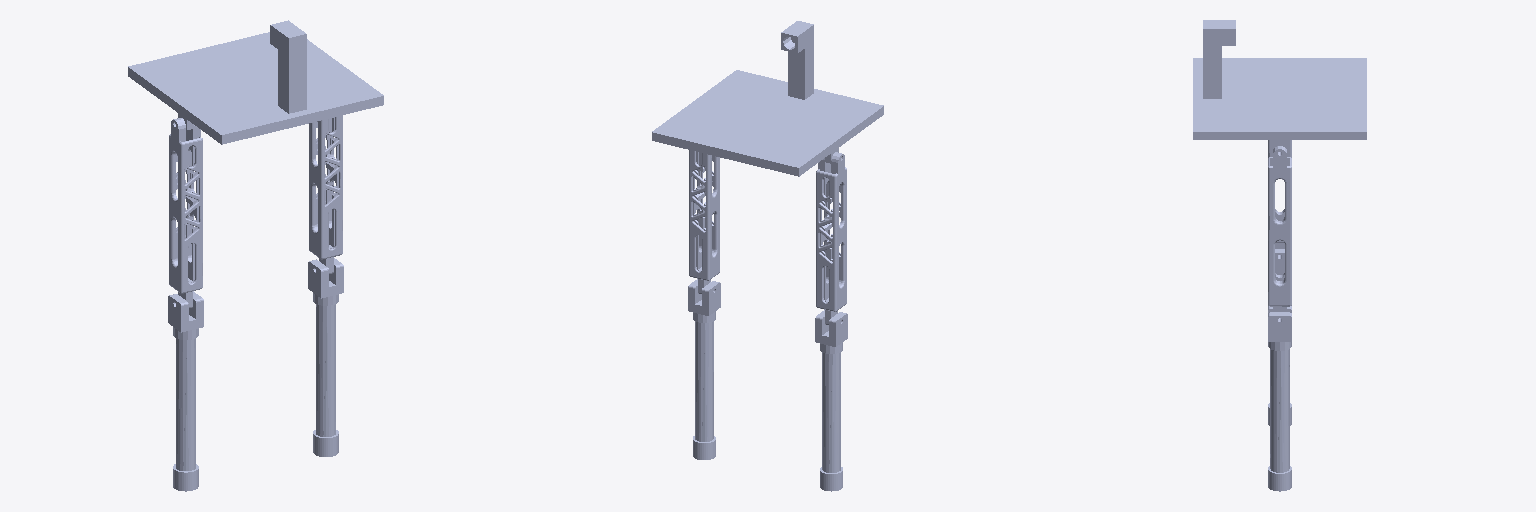
robot.urdf — bipedalwalkingrobot:
<?xml version="1.0"?>
<robot name="bipedalwalkingrobot">
  <link
    name="waist">
    <inertial>
      <origin
        xyz="-1.286E-17 -0.0066341 0.024451"
        rpy="0 0 0" />
      <mass
        value="0.36416" />
      <inertia
        ixx="0.00112359552578825"
        ixy="1.205946380074E-19"
        ixz="1.11224090733735E-20"
        iyy="0.00100247284891324"
        iyz="0.000103236065171984"
        izz="0.0019309628828681" />
    </inertial>
    <visual>
      <origin
        xyz="0 0 0"
        rpy="1.5707963267949 0 0" />
      <geometry>
        <mesh
          filename="package://walker_gazebo/meshes/waist_L.STL" />
      </geometry>
      <material
        name="black">
        <color
          rgba="0.79216 0.81961 0.93333 1" />
      </material>
    </visual>
    <collision>
      <origin
        xyz="0 0 0"
        rpy="1.5707963267949 0 0" />
      <geometry>
        <mesh
          filename="package://walker_gazebo/meshes/waist_L.STL" />
      </geometry>
    </collision>
  </link>

  <joint name="waist_thighR" type="revolute">
    <origin xyz="-0.0775 0 0" rpy="0 0 0"></origin>
    <parent link="waist"></parent>
    <child link="thighR"></child>
    <axis xyz="1 0 0"></axis>
    <limit effort="30" lower="-0.8" upper="0.8" velocity="7.0"></limit>
  </joint>

  <link
    name="thighR">
    <inertial>
      <origin
        xyz="7.1075E-05 -1.52550000586923E-09 -0.095855"
        rpy="0 0 0" />
      <mass
        value="0.045155" />
      <inertia
        ixx="0.000160298997286007"
        ixy="2.81502223076189E-13"
        ixz="8.01930451478266E-08"
        iyy="0.000161034455414454"
        iyz="-1.2037190736104E-13"
        izz="5.91731247278774E-06" />
    </inertial>
    <visual>
      <origin
        xyz="0 0 0"
        rpy="1.5707963267949 0 0" />
      <geometry>
        <mesh
          filename="package://walker_gazebo/meshes/thigh.STL" />
      </geometry>
      <material
        name="">
        <color
          rgba="0.79216 0.81961 0.93333 1" />
      </material>
    </visual>
    <collision>
      <origin
        xyz="0 0 0"
        rpy="1.5707963267949 0 0" />
      <geometry>
        <mesh
          filename="package://walker_gazebo/meshes/thigh.STL" />
      </geometry>
    </collision>
  </link>

  <joint name="waist_thighL" type="revolute">
    <origin xyz="0.0775 0 0" rpy="0 0 0"></origin>
    <parent link="waist"></parent>
    <child link="thighL"></child>
    <axis xyz="1 0 0"></axis>
    <limit effort="30" lower="-0.8" upper="0.8" velocity="7.0"></limit>
  </joint>
  
  <link
    name="thighL">
    <inertial>
      <origin
        xyz="7.1075E-05 -1.52550000586923E-09 -0.095855"
        rpy="0 0 0" />
      <mass
        value="0.045155" />
      <inertia
        ixx="0.000160298997286007"
        ixy="2.81502223076189E-13"
        ixz="8.01930451478266E-08"
        iyy="0.000161034455414454"
        iyz="-1.2037190736104E-13"
        izz="5.91731247278774E-06" />
    </inertial>
    <visual>
      <origin
        xyz="0 0 0"
        rpy="1.5707963267949 0 0" />
      <geometry>
        <mesh
          filename="package://walker_gazebo/meshes/thigh.STL" />
      </geometry>
      <material
        name="">
        <color
          rgba="0.79216 0.81961 0.93333 1" />
      </material>
    </visual>
    <collision>
      <origin
        xyz="0 0 0"
        rpy="1.5707963267949 0 0" />
      <geometry>
        <mesh
          filename="package://walker_gazebo/meshes/31mar/thigh.STL" />
      </geometry>
    </collision>
  </link>

<link
    name="shankR">
    <inertial>
      <origin
        xyz="-2.8278E-08 -1.6559000000536E-07 -0.087546"
        rpy="0 0 0" />
      <mass
        value="0.069508" />
      <inertia
        ixx="0.000246986748692704"
        ixy="6.48379358038081E-13"
        ixz="1.71897862367626E-10"
        iyy="0.000247151812403649"
        iyz="-1.00661207044161E-09"
        izz="4.5839866041675E-06" />
    </inertial>
    <visual>
      <origin
        xyz="0 0 0"
        rpy="1.5707963267949 0 0" />
      <geometry>
        <mesh
          filename="package://walker_gazebo/meshes/shank.STL" />
      </geometry>
      <material
        name="">
        <color
          rgba="0.79216 0.81961 0.93333 1" />
      </material>
    </visual>
    <collision>
      <origin
        xyz="0 0 0"
        rpy="1.5707963267949 0 0" />
      <geometry>
        <mesh
          filename="package://walker_gazebo/meshes/shank.STL" />
      </geometry>
    </collision>
  </link>

  <joint name="thighR_shankR" type="revolute">
    <origin xyz="0 0 -0.190" rpy="0 0 0"></origin>
    <parent link="thighR"></parent>
    <child link="shankR"></child>
    <axis xyz="1 0 0"></axis>
    <limit effort="30" lower="-0.00118981" upper="1.4" velocity="7.0"></limit>
  </joint>

  <link
    name="shankL">
    <inertial>
      <origin
        xyz="-2.8278E-08 -1.6559000000536E-07 -0.087546"
        rpy="0 0 0" />
      <mass
        value="0.069508" />
      <inertia
        ixx="0.000246986748692704"
        ixy="6.48379358038081E-13"
        ixz="1.71897862367626E-10"
        iyy="0.000247151812403649"
        iyz="-1.00661207044161E-09"
        izz="4.5839866041675E-06" />
    </inertial>
    <visual>
      <origin
        xyz="0 0 0"
        rpy="1.5707963267949 0 0" />
      <geometry>
        <mesh
          filename="package://walker_gazebo/meshes/shank.STL" />
      </geometry>
      <material
        name="">
        <color
          rgba="0.79216 0.81961 0.93333 1" />
      </material>
    </visual>
    <collision>
      <origin
        xyz="0 0 0"
        rpy="1.5707963267949 0 0" />
      <geometry>
        <mesh
          filename="package://walker_gazebo/meshes/shank.STL" />
      </geometry>
    </collision>
  </link>

  <joint name="thighL_shankL" type="revolute">
    <origin xyz="0 0 -0.190" rpy="0 0 0"></origin>
    <parent link="thighL"></parent>
    <child link="shankL"></child>
    <axis xyz="1 0 0"></axis>
    <limit effort="30" lower="-0.00118981" upper="1.4" velocity="7.0"></limit>
  </joint>

  <link
    name="footR">
    <inertial>
      <origin
        xyz="3.0195E-35 -8.55943176911189E-19 -0.01"
        rpy="0 0 0" />
      <mass
        value="0.0098175" />
      <inertia
        ixx="7.10744431720347E-07"
        ixy="-1.42924763913015E-39"
        ixz="2.37149515633406E-39"
        iyy="7.10744431720347E-07"
        iyz="3.44395813572471E-24"
        izz="7.66990393942821E-07" />
    </inertial>
    <visual>
      <origin
        xyz="0 0 0"
        rpy="1.5707963267949 0 0" />
      <geometry>
        <mesh
          filename="package://walker_gazebo/meshes/contact_sensor.STL" />
      </geometry>
      <material
        name="">
        <color
          rgba="0.79216 0.81961 0.93333 1" />
      </material>
    </visual>
    <collision>
      <origin
        xyz="0 0 0"
        rpy="1.5707963267949 0 0" />
      <geometry>
        <mesh
          filename="package://walker_gazebo/meshes/contact_sensor.STL" />
      </geometry>
    </collision>
  </link>

  <joint name="shankR_footR" type="fixed">
    <origin xyz="0 0 -0.175" rpy="0 0 0"></origin>
    <parent link="shankR"></parent>
    <child link="footR"></child>
  </joint>

  <link
    name="footL">
    <inertial>
      <origin
        xyz="3.0195E-35 -8.55943176911189E-19 -0.01"
        rpy="0 0 0" />
      <mass
        value="0.0098175" />
      <inertia
        ixx="7.10744431720347E-07"
        ixy="-1.42924763913015E-39"
        ixz="2.37149515633406E-39"
        iyy="7.10744431720347E-07"
        iyz="3.44395813572471E-24"
        izz="7.66990393942821E-07" />
    </inertial>
    <visual>
      <origin
        xyz="0 0 0"
        rpy="1.5707963267949 0 0" />
      <geometry>
        <mesh
          filename="package://walker_gazebo/meshes/contact_sensor.STL" />
      </geometry>
      <material
        name="">
        <color
          rgba="0.79216 0.81961 0.93333 1" />
      </material>
    </visual>
    <collision>
      <origin
        xyz="0 0 0"
        rpy="1.5707963267949 0 0" />
      <geometry>
        <mesh
          filename="package://walker_gazebo/meshes/contact_sensor.STL" />
      </geometry>
    </collision>
  </link>

  <joint name="shankL_footL" type="fixed">
    <origin xyz="0 0 -0.175" rpy="0 0 0"></origin>
    <parent link="shankL"></parent>
    <child link="footL"></child>
  </joint>

<link name="world"/>

 <joint name="grounding" type="fixed">
    <origin xyz="0 0 0" rpy="0 0 0"></origin>
    <parent link="world"/>
    <child link="outer_ring"/>
  </joint>

  <link
    name="outer_ring">
    <inertial>
      <origin
        xyz="0 2.41110241903461E-18 0.165"
        rpy="0 0 0" />
      <mass
        value="0.49244" />
      <inertia
        ixx="0.00502601319324487"
        ixy="-1.62358744911733E-35"
        ixz="7.47908862031761E-35"
        iyy="0.00502601319324487"
        iyz="-2.39524257656496E-19"
        izz="0.00111415601711858" />
    </inertial>
    <collision>
      <origin
        xyz="0 0 0"
        rpy="1.5707963267949 0 0" />
      <geometry>
        <mesh
          filename="package://walker_gazebo/meshes/outter_ring.STL" />
      </geometry>
    </collision>
  </link>

  <joint name="outer_ring_inner_ring" type="prismatic">
    <origin xyz="0 0 0.330" rpy="0 0 0"></origin>
    <parent link="outer_ring"></parent>
    <child link="inner_ring"></child>
    <axis xyz="0 -1 0"></axis>
    <limit effort="30" lower="0.0" upper="10.0" velocity="7.0"></limit>
    <dynamics damping="0.0" friction="0.0"/>
  </joint>

  <link
    name="inner_ring">
    <inertial>
      <origin
        xyz="1.9888E-21 2.902765522478E-18 0.032744"
        rpy="0 0 0" />
      <mass
        value="0.41592" />
      <inertia
        ixx="0.000359315600962194"
        ixy="-5.5118705611265E-24"
        ixz="3.13347162793032E-23"
        iyy="0.000359274048641079"
        iyz="8.28368014073459E-21"
        izz="0.000418748218163316" />
    </inertial>
    <collision>
      <origin
        xyz="0 0 0"
        rpy="1.5707963267949 0 0" />
      <geometry>
        <mesh
          filename="package://walker_gazebo/meshes/inner_ring.STL" />
      </geometry>
    </collision>
  </link>

  <joint name="inner_ring_boom" type="fixed">
    <origin xyz="0 0 0.080" rpy="0 0 0"></origin>
    <parent link="inner_ring"></parent>
    <child link="boom"></child>
    <axis xyz="0 -1 0"></axis>
  </joint>

  <link
    name="boom">
    <inertial>
      <origin
        xyz="0.33356 4.01527583384352E-18 0.024218"
        rpy="0 0 0" />
      <mass
        value="0.18809" />
      <inertia
        ixx="1.07257686642265E-05"
        ixy="-1.10823505766879E-19"
        ixz="4.90544717612682E-05"
        iyy="0.00892424521805477"
        iyz="-8.28057414299352E-22"
        izz="0.00892212851787082" />
    </inertial>
    <collision>
      <origin
        xyz="0 0 0"
        rpy="1.5707963267949 0 0" />
      <geometry>
        <mesh
          filename="package://walker_gazebo/meshes/boom_horizontal.STL" />
      </geometry>
    </collision>
  </link>

  <gazebo reference="waist">
       <material>Gazebo/Red</material>
    </gazebo>
    <gazebo reference="thighR">
       <material>Gazebo/Blue</material>
    </gazebo>
      <gazebo reference="thighL">
       <material>Gazebo/Blue</material>
    </gazebo>
      <gazebo reference="shankR">
       <material>Gazebo/Red</material>
    </gazebo>
      <gazebo reference="shankL">
       <material>Gazebo/Red</material>
    </gazebo>
      <gazebo reference="footR">
       <material>Gazebo/Black</material>
    </gazebo>
      <gazebo reference="footL">
       <material>Gazebo/Black</material>
    </gazebo>

    <gazebo reference="boom">
       <material>Gazebo/Transparent</material>
    </gazebo>

  <joint name="boom_waist" type="prismatic">
    <origin xyz="0.725 0 0" rpy="0 0 0"></origin>
    <parent link="boom"></parent>
    <child link="waist"></child>
    <axis xyz="0 0 1"></axis>
    <limit effort="30" lower="-0.5" upper="0.5" velocity="7.0"></limit>
    <dynamics damping="0.0" friction="0.0"/>
  </joint>

  <gazebo>
  <plugin name="gazebo_ros_control" filename="libgazebo_ros_control.so">
  </plugin>
  </gazebo>



<gazebo reference="footR">
  <sensor name="footR_contact_sensor" type="contact">
    <always_on>true</always_on>
    <update_rate>120.0</update_rate>
    <contact>
      <collision>footR_collision</collision>
    </contact>
    <plugin name="gazebo_ros_bumper_controller_1" filename="libgazebo_ros_bumper.so">
      <bumperTopicName>/footR_contact_sensor_state</bumperTopicName>
      <frameName>footR</frameName>
    </plugin>
  </sensor>
</gazebo>
  <gazebo reference="footL">
  <sensor name="footL_contact_sensor" type="contact">
    <always_on>true</always_on>
    <update_rate>120.0</update_rate>
    <contact>
      <collision>footL_collision</collision>
    </contact>
    <plugin name="gazebo_ros_bumper_controller" filename="libgazebo_ros_bumper.so">
      <bumperTopicName>/footL_contact_sensor_state</bumperTopicName>
      <frameName>footL</frameName>
    </plugin>
  </sensor>
</gazebo>

  <transmission name="tran1">
    <type>transmission_interface/SimpleTransmission</type>
    <joint name="waist_thighR">
      <hardwareInterface>EffortJointInterface</hardwareInterface>
    </joint>
    <actuator name="motor1">
      <hardwareInterface>EffortJointInterface</hardwareInterface>
      <mechanicalReduction>1</mechanicalReduction>
    </actuator>
  </transmission>

  <transmission name="tran2">
    <type>transmission_interface/SimpleTransmission</type>
    <joint name="waist_thighL">
      <hardwareInterface>EffortJointInterface</hardwareInterface>
    </joint>
    <actuator name="motor2">
      <hardwareInterface>EffortJointInterface</hardwareInterface>
      <mechanicalReduction>1</mechanicalReduction>
    </actuator>
  </transmission>

  <transmission name="tran3">
    <type>transmission_interface/SimpleTransmission</type>
    <joint name="thighR_shankR">
      <hardwareInterface>EffortJointInterface</hardwareInterface>
    </joint>
    <actuator name="motor3">
      <hardwareInterface>EffortJointInterface</hardwareInterface>
      <mechanicalReduction>1</mechanicalReduction>
    </actuator>
  </transmission>

  <transmission name="tran4">
    <type>transmission_interface/SimpleTransmission</type>
    <joint name="thighL_shankL">
      <hardwareInterface>EffortJointInterface</hardwareInterface>
    </joint>
    <actuator name="motor4">
      <hardwareInterface>EffortJointInterface</hardwareInterface>
      <mechanicalReduction>1</mechanicalReduction>
    </actuator>
  </transmission>

  <transmission name="tran5">
    <type>transmission_interface/SimpleTransmission</type>
    <joint name="boom_waist">
      <hardwareInterface>EffortJointInterface</hardwareInterface>
    </joint>
    <actuator name="motor5">
      <hardwareInterface>EffortJointInterface</hardwareInterface>
      <mechanicalReduction>1</mechanicalReduction>
    </actuator>
  </transmission>

  <transmission name="tran7">
    <type>transmission_interface/SimpleTransmission</type>
    <joint name="outer_ring_inner_ring">
      <hardwareInterface>EffortJointInterface</hardwareInterface>
    </joint>
    <actuator name="motor7">
      <hardwareInterface>EffortJointInterface</hardwareInterface>
      <mechanicalReduction>1</mechanicalReduction>
    </actuator>
  </transmission>
  
  </robot>

--- Render facts (derived) ---
Views: 3 orthographic renders of the robot side by side, from view 1: azimuth 30°, elevation 25°; view 2: azimuth 150°, elevation 25°; view 3: azimuth 270°, elevation 25°.
Robot: bipedalwalkingrobot — 11 links, 10 joints (4 revolute, 2 prismatic, 4 fixed); root link world; default pose: all joints at 0.
Links seen in each view (by area): view 1: waist, thighR, thighL, shankR, shankL, footR, footL; view 2: waist, thighR, thighL, shankL, shankR; view 3: waist, shankL, thighL.
Boxes of the visible links, box(x1,y1,x2,y2) form: waist: box(128, 20, 383, 144); thighR: box(169, 118, 202, 307); thighL: box(309, 115, 342, 273); shankR: box(168, 291, 203, 470); shankL: box(308, 258, 343, 436); footR: box(173, 464, 198, 491); footL: box(313, 430, 338, 456); waist: box(652, 21, 883, 176); thighR: box(816, 152, 846, 324); thighL: box(689, 150, 719, 293); shankL: box(688, 279, 720, 441); shankR: box(815, 310, 847, 472); waist: box(1193, 20, 1366, 153); shankL: box(1268, 306, 1291, 472); thighL: box(1268, 146, 1291, 318).
Bounding box of the posed robot: 0.18 × 0.18 × 0.49 m (x, y, z).
Meshes: 4 distinct files referenced, 7 mesh visuals loaded (4 binary STL).